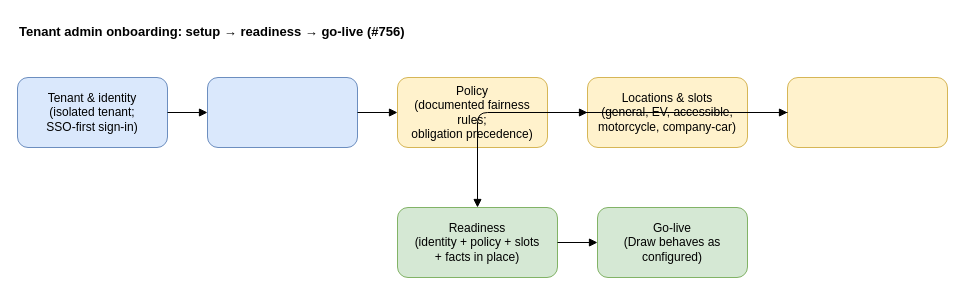
This 965x295 diagram has some shape labels left out. Each missing label, with the centre of its shape:
"First admin (assign roles: employee, HR, admin…)" goes at point (282, 112).
"Profile facts (HR-managed eligibility: company car, accessibility)" goes at point (867, 112).
